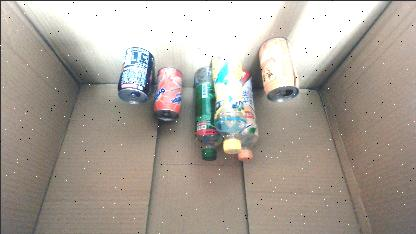Can: (254, 34, 298, 102), (116, 46, 154, 104), (152, 65, 182, 123)
Plastic Bottle: (208, 44, 245, 154), (192, 66, 224, 160), (233, 69, 258, 161)
